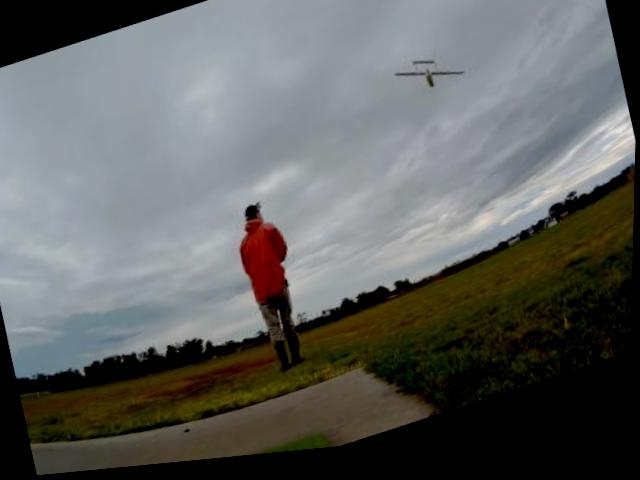uav: (394, 54, 466, 104)
